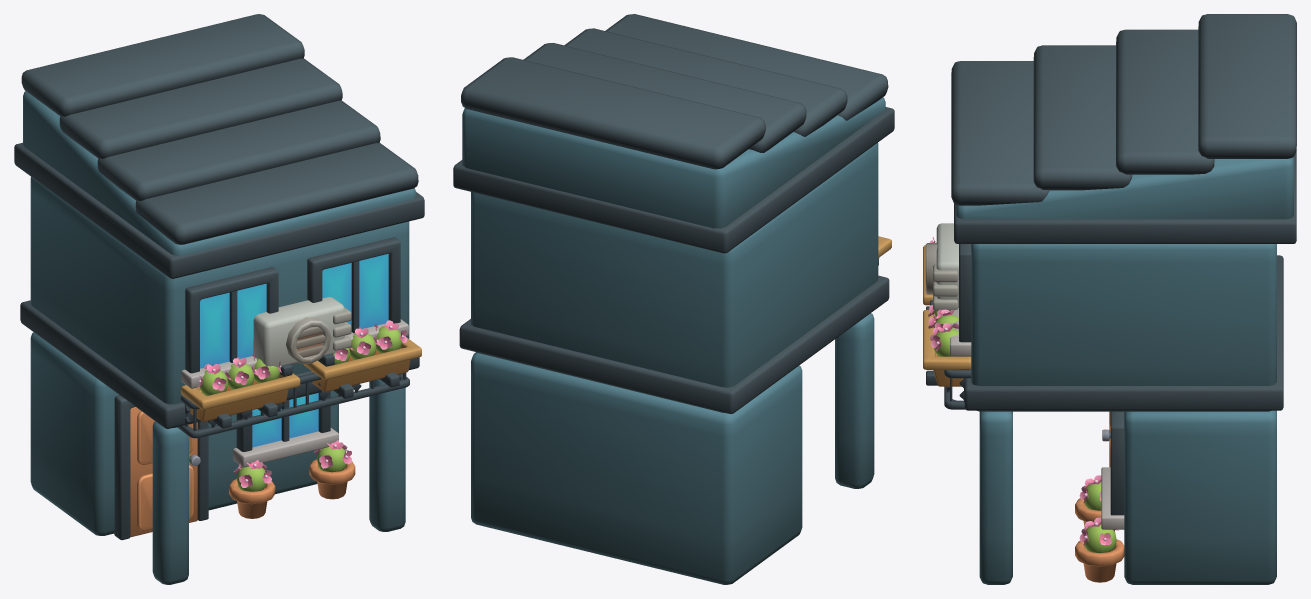
Rendered from mct_build_full_house06.fbx.
3 renders of one model, left to right at view 1: azimuth 30°, elevation 25°; view 2: azimuth 150°, elevation 25°; view 3: azimuth 270°, elevation 25°, orthographic. The views are drawn at different scales.
Parts seen in each view (by area): view 1: mct_build_full_house_06, mct_door.006; view 2: mct_build_full_house_06; view 3: mct_build_full_house_06.
Part boxes in pixels (left/top/right/bottom): mct_build_full_house_06: left=14, top=14, right=424, bottom=584; mct_door.006: left=130, top=407, right=200, bottom=537; mct_build_full_house_06: left=453, top=14, right=894, bottom=584; mct_build_full_house_06: left=923, top=14, right=1296, bottom=584.
Bounding box in the file's own units: 417 × 648 × 489.
